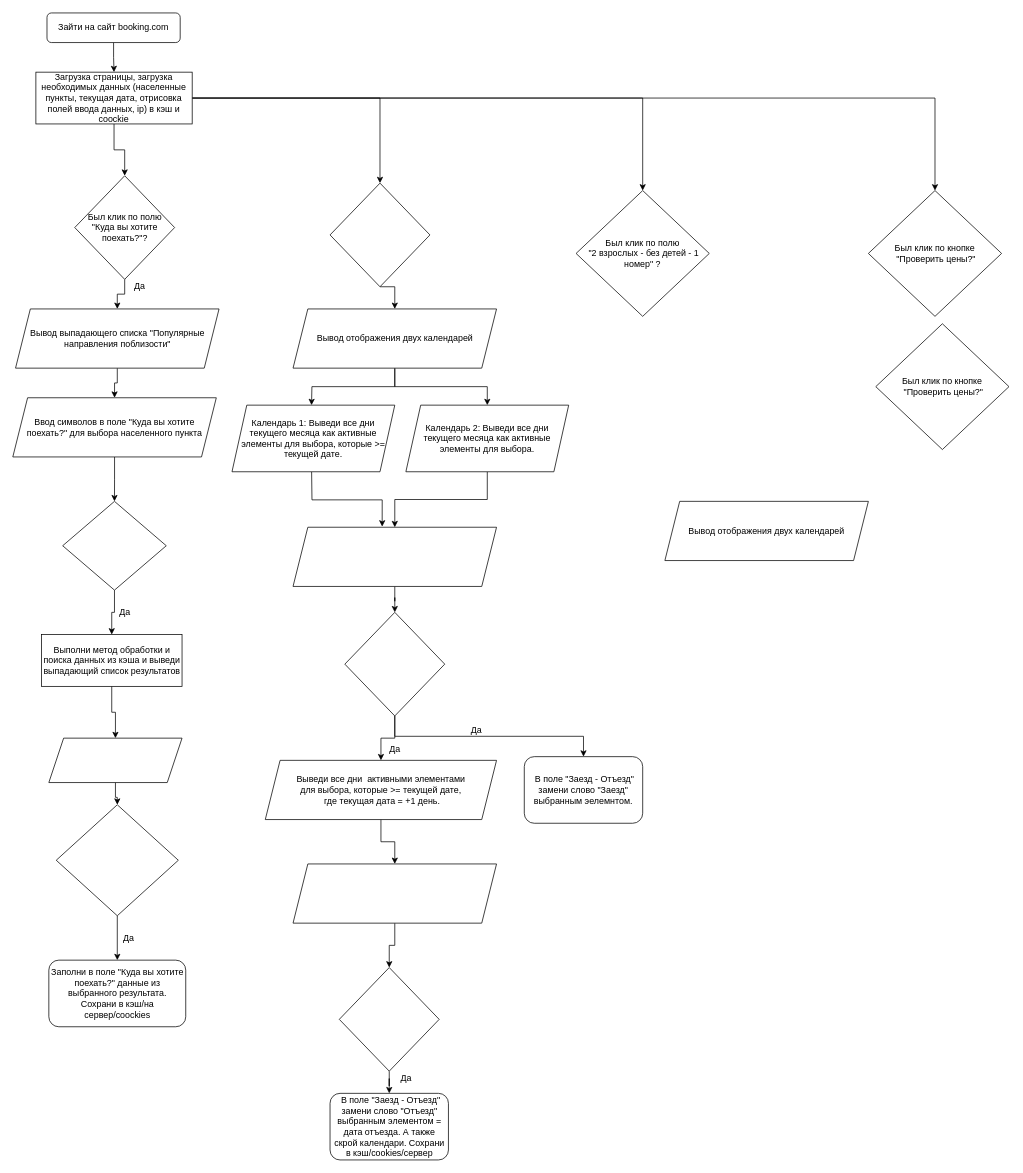
This 1023x1173 diagram has some shape labels left out. The shapes that lost their labels are listed below. From the top down, each one's centre as x and y in pixels, then its label:
point 379,234: Был клик по полю "Заезд - Отъезд"?
point 114,545: Значение поля >= одному символу?
point 394,556: Выбор пользователем даты заезда из активных элементов
point 394,664: Дата заезда выбрана?
point 115,760: Вывод результатов в выпадающем списке
point 117,860: Выбран один результат из выпадающего списка?
point 394,893: Выбор пользователем даты отъезда из активных элементов
point 389,1019: Дата отъезда выбрана?
